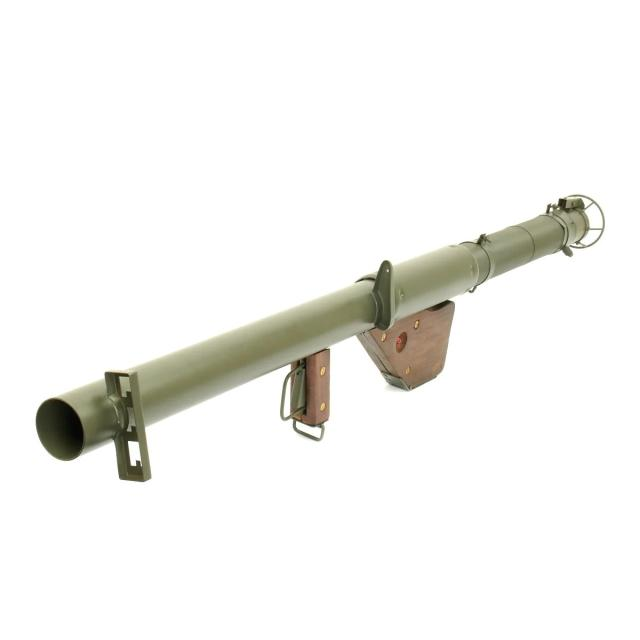bazooka: (26, 173, 608, 492)
